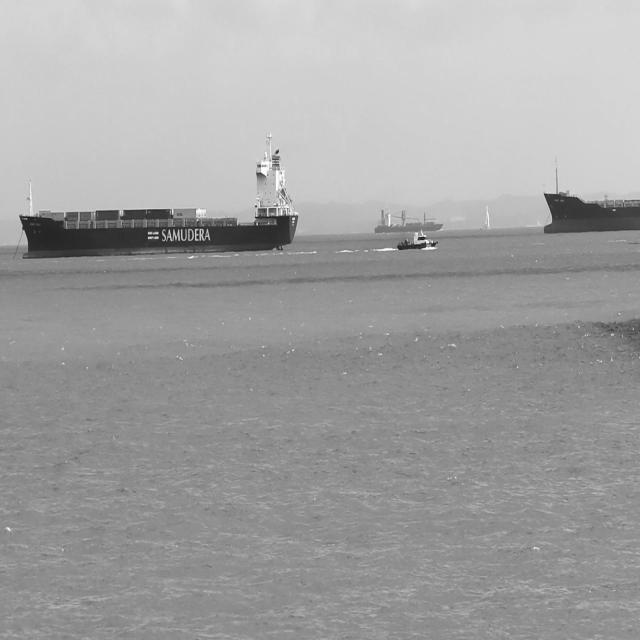boat: (483, 205, 491, 231)
ship: (19, 131, 299, 259), (544, 153, 639, 234), (373, 205, 443, 233), (396, 228, 439, 250)
